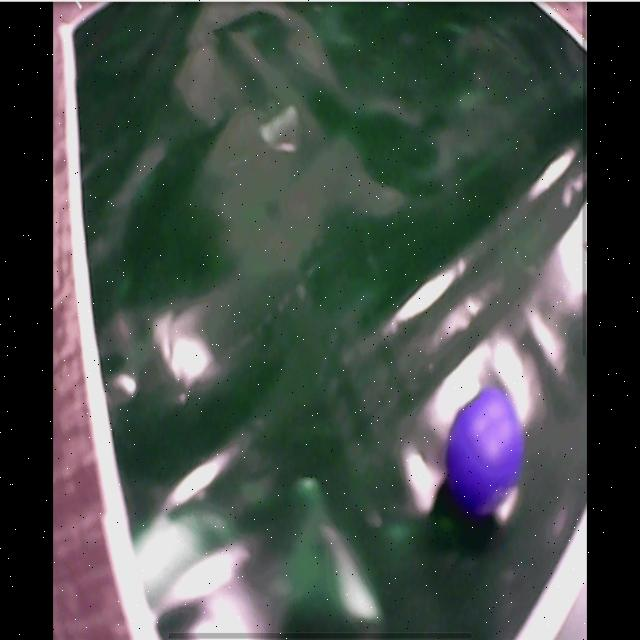ball: (445, 387, 522, 513)
